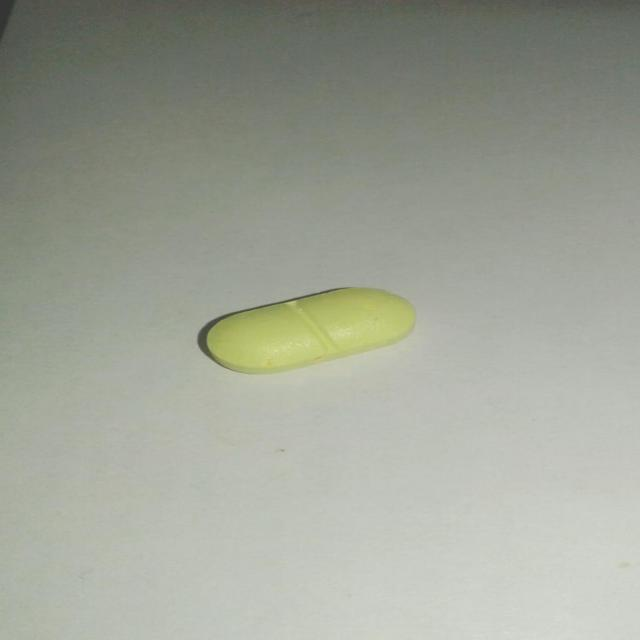pill: (193, 284, 425, 376)
